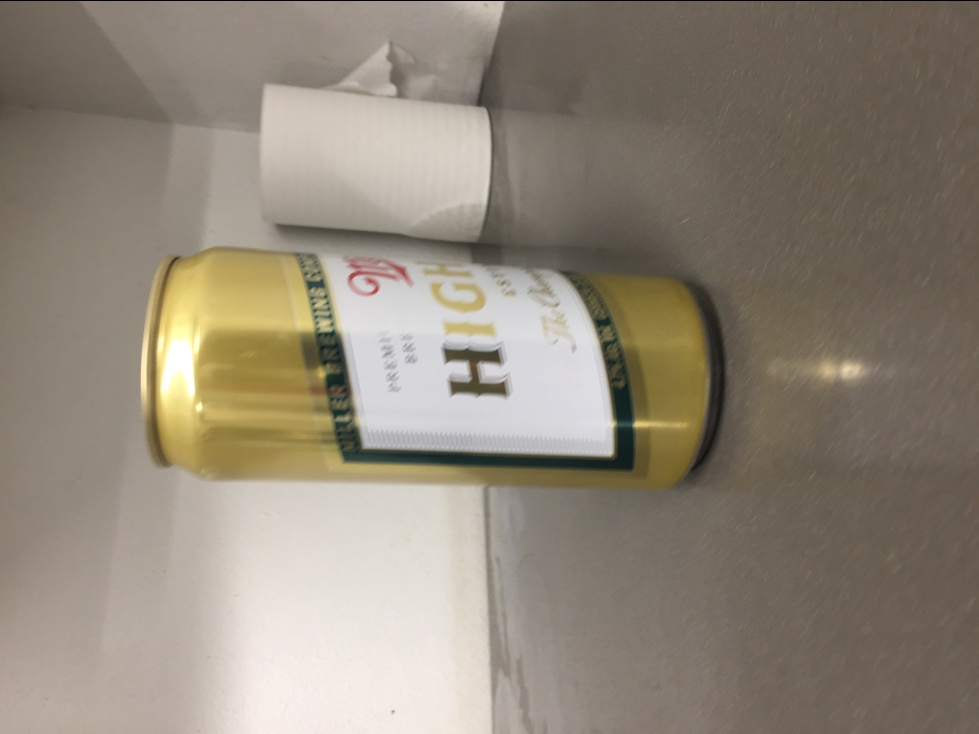miller: (138, 241, 722, 494)
